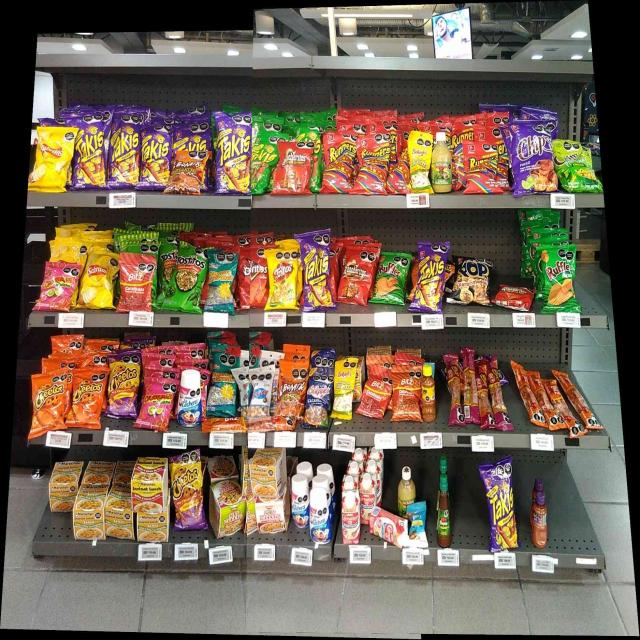bitzAlmendras: (410, 505, 426, 548)
bitzEnchilado90: (122, 258, 151, 309), (393, 373, 419, 420), (362, 373, 387, 417)
bitzEnchilado95: (517, 362, 596, 429), (204, 418, 294, 432)
bitzHabanero: (492, 359, 507, 431), (447, 354, 461, 425), (464, 349, 476, 424), (478, 361, 490, 427)
bokadosCacahuates: (306, 369, 328, 426)
botaneraChilito: (421, 365, 436, 421)
cheetosFlaminHot: (172, 453, 202, 528), (110, 354, 137, 418)
cheetosOriginal: (73, 369, 101, 429), (33, 376, 63, 427)
chipsFuego: (514, 121, 554, 192)
chipsPapatinas: (556, 140, 593, 190)
churrumais: (45, 264, 75, 310), (143, 379, 170, 428)
delPrimoSalsa: (433, 132, 452, 191), (398, 466, 415, 504)
doritosNacho: (240, 247, 265, 307)
fritosLimon: (271, 251, 296, 309)
leoCacahuates: (251, 369, 270, 414)
leoMix: (278, 361, 304, 413), (173, 151, 202, 194)
maruchanPollo: (252, 449, 287, 498), (74, 485, 105, 538), (106, 485, 130, 537), (137, 513, 170, 542)
maruchanRes: (134, 457, 166, 511)
nestleCarnation: (371, 510, 406, 548), (342, 490, 359, 543), (362, 473, 376, 508)
nestleLechera: (180, 370, 200, 426), (310, 489, 330, 542), (292, 475, 308, 527)
nissinCamaron: (211, 484, 243, 533)
nissinRes: (256, 500, 288, 533)
popKarameladas: (454, 258, 490, 304)
rancheritos: (344, 247, 372, 303), (279, 142, 308, 193), (499, 284, 531, 310)
rufflesQueso: (541, 248, 575, 310), (379, 254, 405, 304)
runners: (357, 135, 386, 194), (323, 131, 351, 191), (467, 143, 496, 193)
sabritasOriginal: (33, 127, 71, 191), (84, 253, 116, 310)
salsaBufalo: (437, 476, 451, 546)
semillasCalabaza: (410, 133, 430, 192), (334, 360, 352, 417)
semillasGirasol: (211, 352, 236, 415), (208, 254, 235, 312)
tajinDulce: (532, 489, 547, 547)
takisFuego: (216, 114, 250, 194), (488, 465, 518, 551), (74, 115, 105, 188), (109, 114, 139, 186), (304, 233, 331, 309), (418, 242, 446, 312), (140, 124, 168, 187)
takisOriginal: (252, 134, 276, 192)
tostitos: (176, 246, 204, 307), (158, 245, 174, 306)
